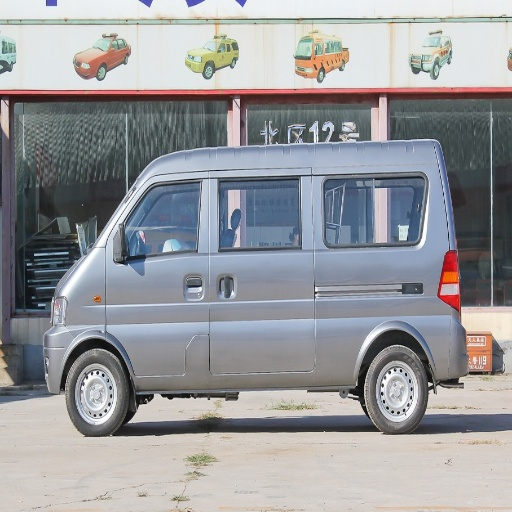back_left_door: (211, 173, 289, 366), (354, 175, 418, 248)
trunk: (242, 280, 452, 381)
